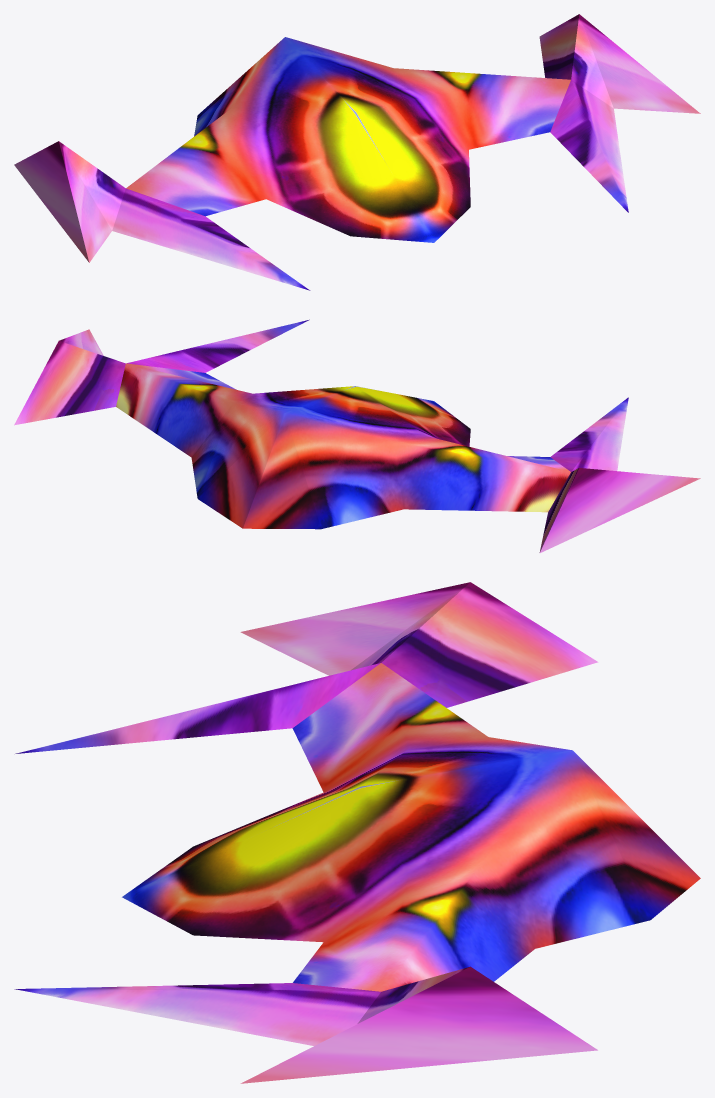
File: ship-59.fbx
The picture shows the model from 3 angles, top to bottom: view 1: azimuth 30°, elevation 25°; view 2: azimuth 150°, elevation 25°; view 3: azimuth 270°, elevation 25°; orthographic projection. The views are drawn at different scales.
Parts seen in each view (by area): view 1: ship-59; view 2: ship-59; view 3: ship-59.
Boxes of the visible parts, <box> form: ship-59: <box>14,14,700,290</box>; ship-59: <box>14,319,700,552</box>; ship-59: <box>14,582,700,1083</box>.
Bounding box in the file's own units: 62.09 × 10.69 × 39.9.
